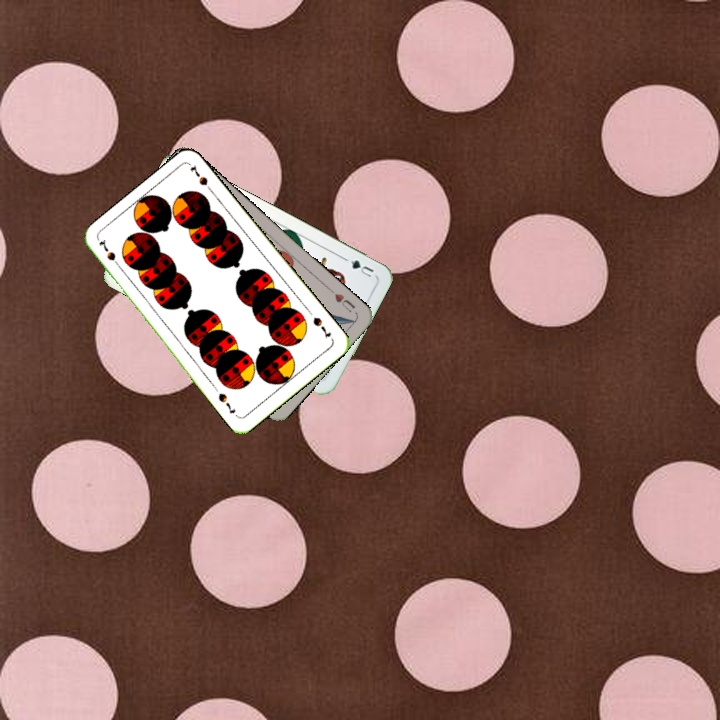GU: (345, 256, 376, 280)
HU: (330, 289, 358, 315)
S7: (95, 236, 124, 272), (309, 313, 334, 341)
